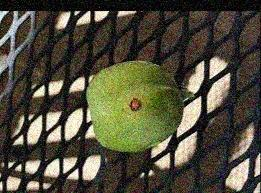rotten apple: (87, 59, 183, 151)
